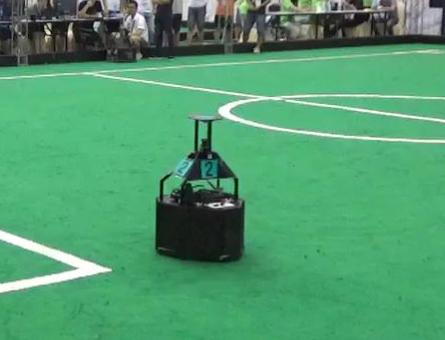robot: (150, 110, 247, 264)
